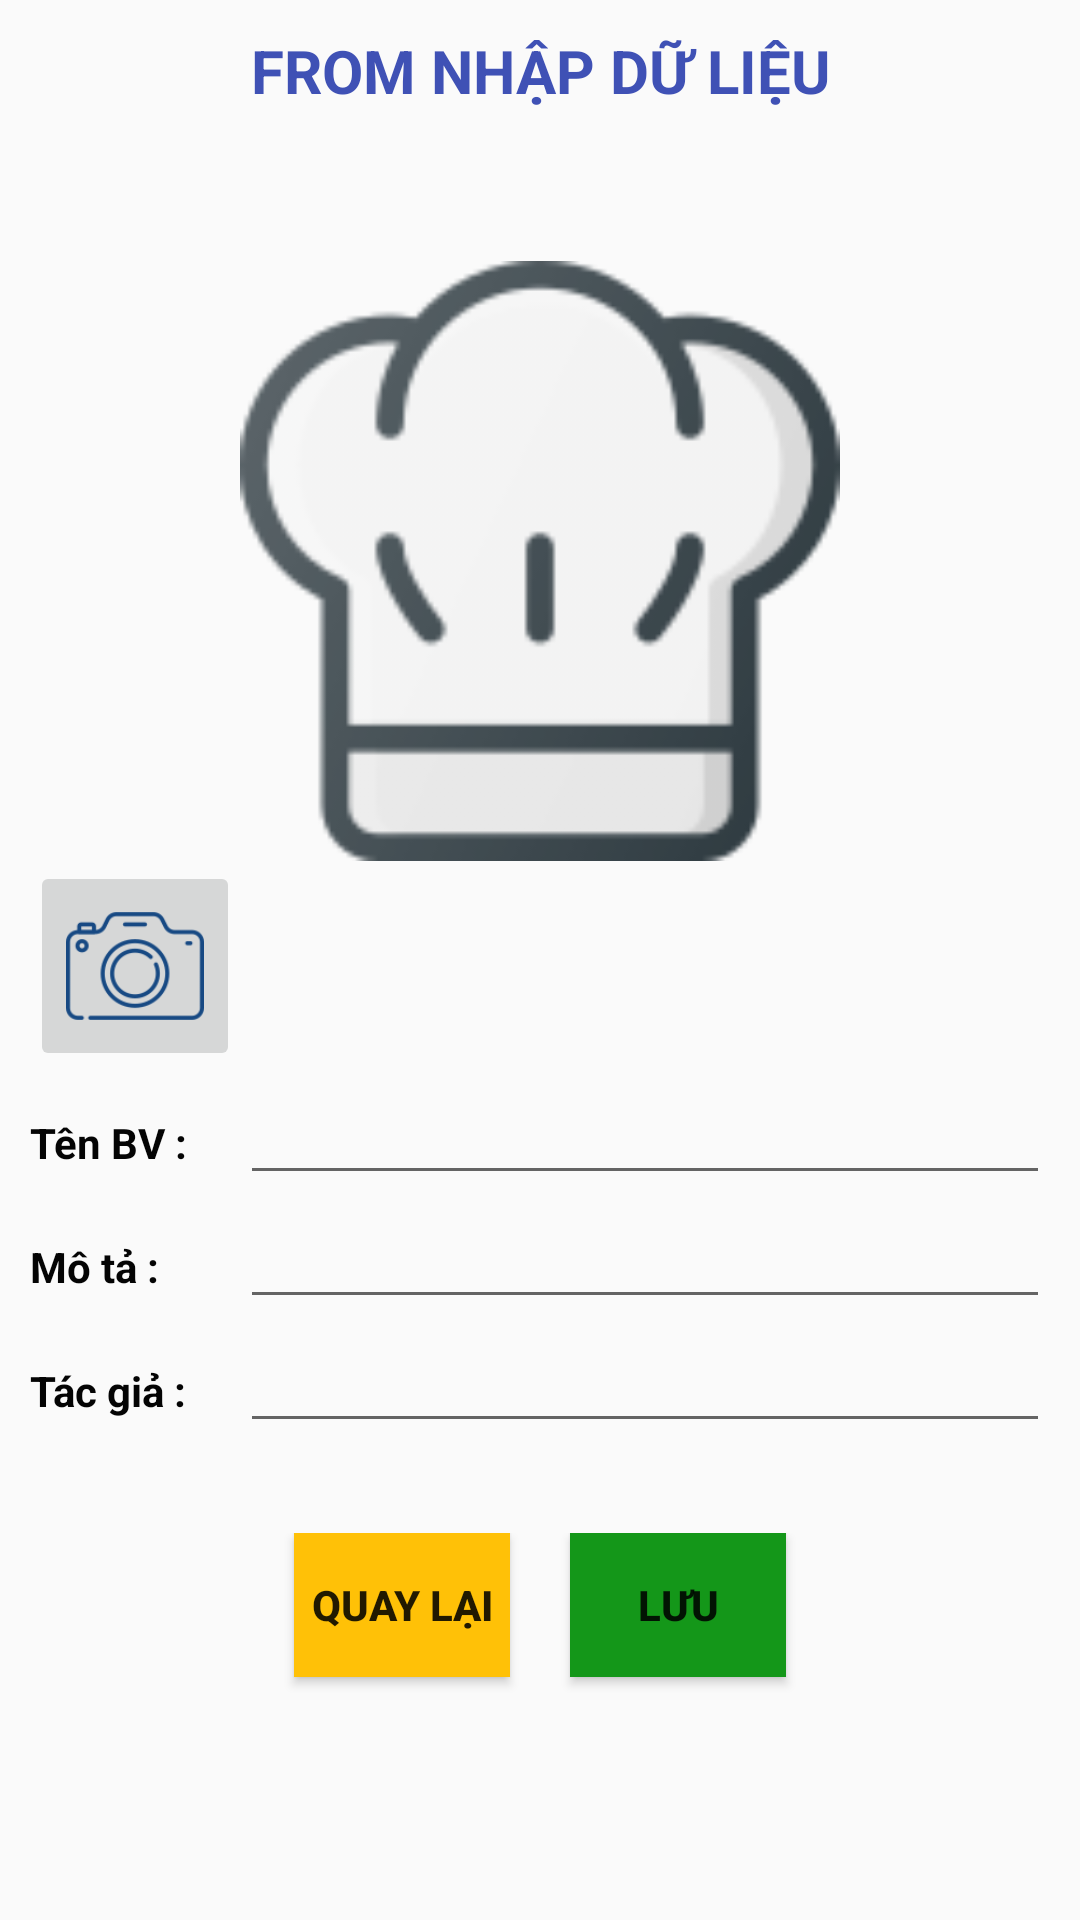

Icon bounding boxes for this 1080×1920 phone screenshot, format (x1, y1, x2, y2):
camera: (42, 879, 228, 1053)
